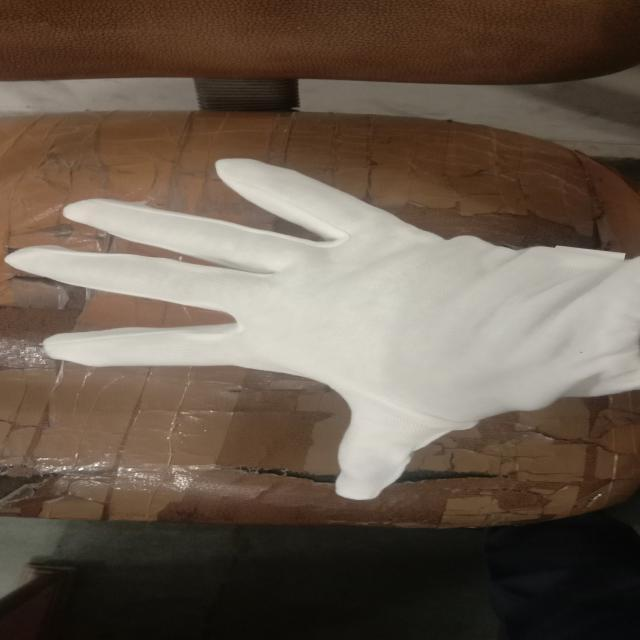gloved_hand: (7, 153, 640, 507)
